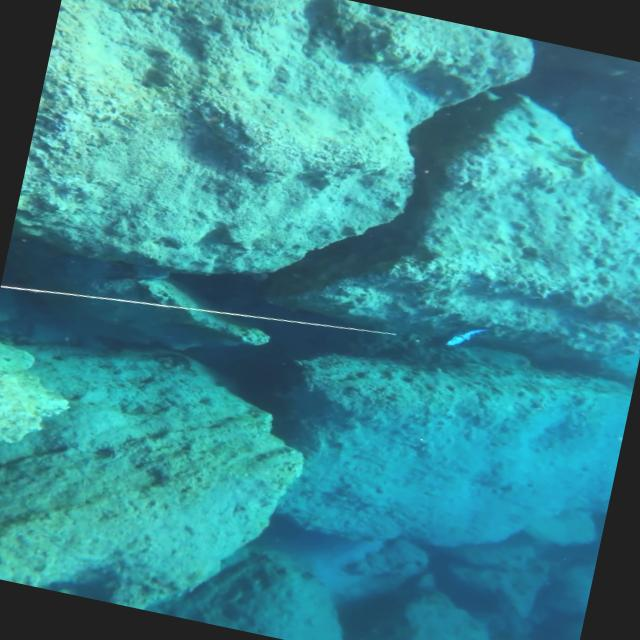Balon Baligi: (444, 318, 496, 354)
